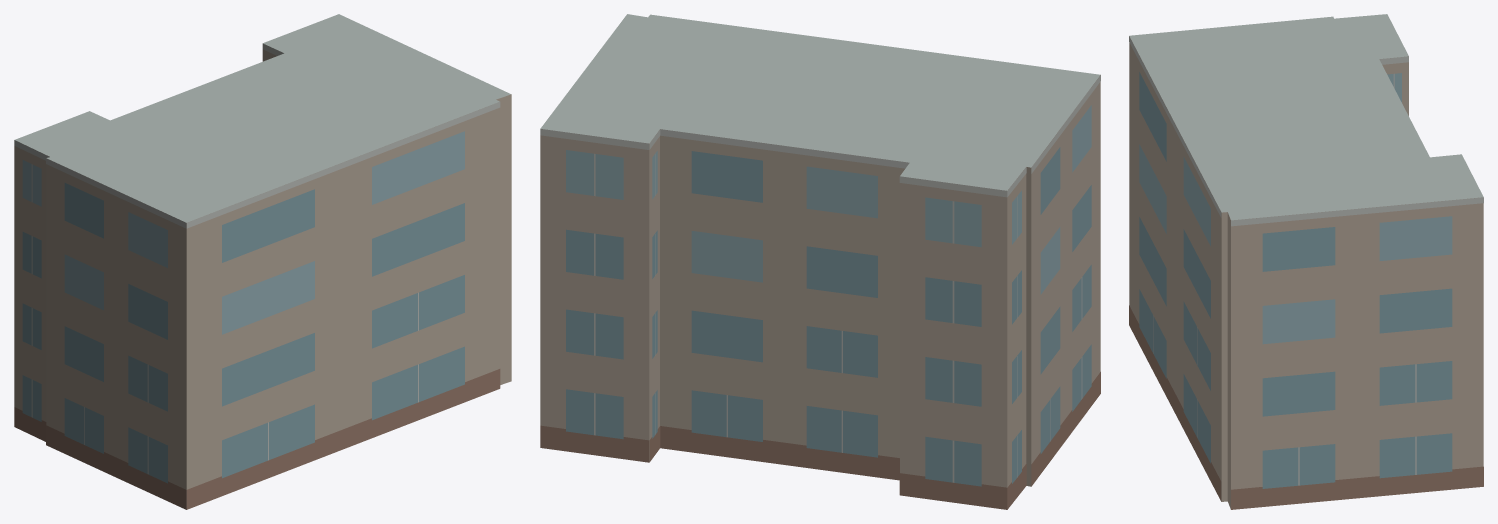
The model's file is survey-upis-32954159.glb.
The picture shows the model from 3 angles, left to right: view 1: azimuth 30°, elevation 25°; view 2: azimuth 150°, elevation 25°; view 3: azimuth 270°, elevation 25°; orthographic projection. The views are drawn at different scales.
Visible parts, largest first — view 1: survey-upis-32954159.tmp; view 2: survey-upis-32954159.tmp; view 3: survey-upis-32954159.tmp.
Part boxes in pixels (x1=…): survey-upis-32954159.tmp: x1=14, y1=14, x2=511, y2=509; survey-upis-32954159.tmp: x1=540, y1=14, x2=1100, y2=509; survey-upis-32954159.tmp: x1=1129, y1=14, x2=1483, y2=509.
Size of the model in its own units: 18.13 by 11.85 by 13.17.
